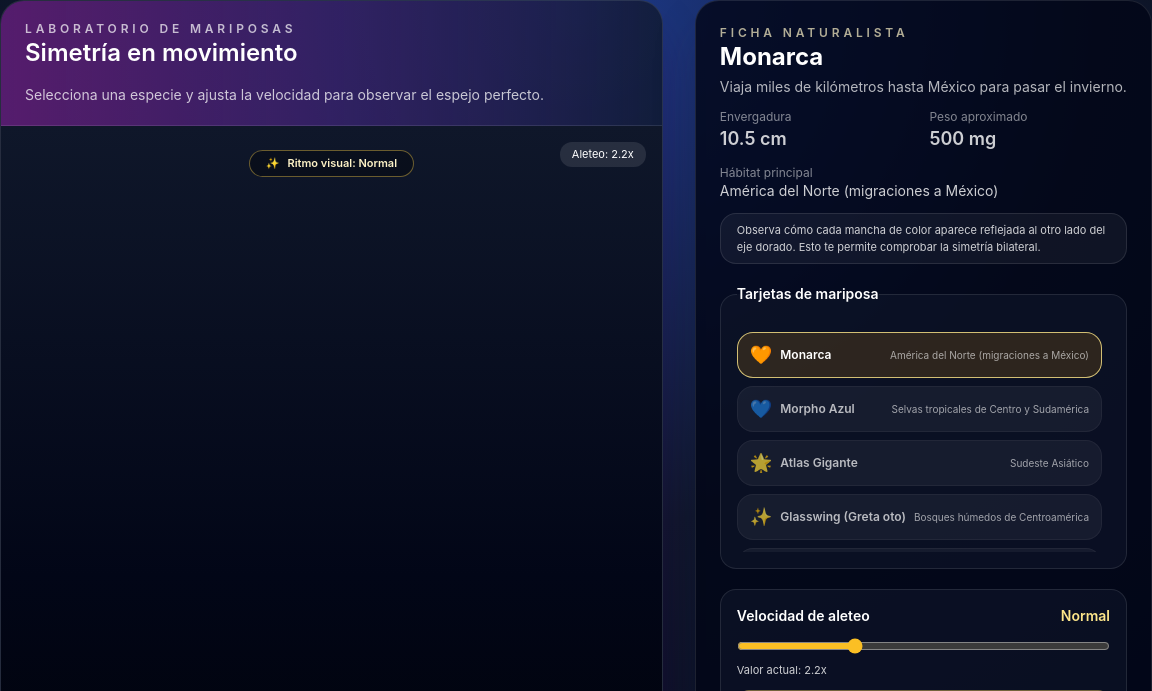
Scenario: ButterfliesPage › permite cambiar la tarjeta activa de mariposa
Click the button "💙 Morpho Azul Selvas tropicales de Centro y Sudamérica": {"x": 919, "y": 409} [737,386,1102,432]
(page scrolled)
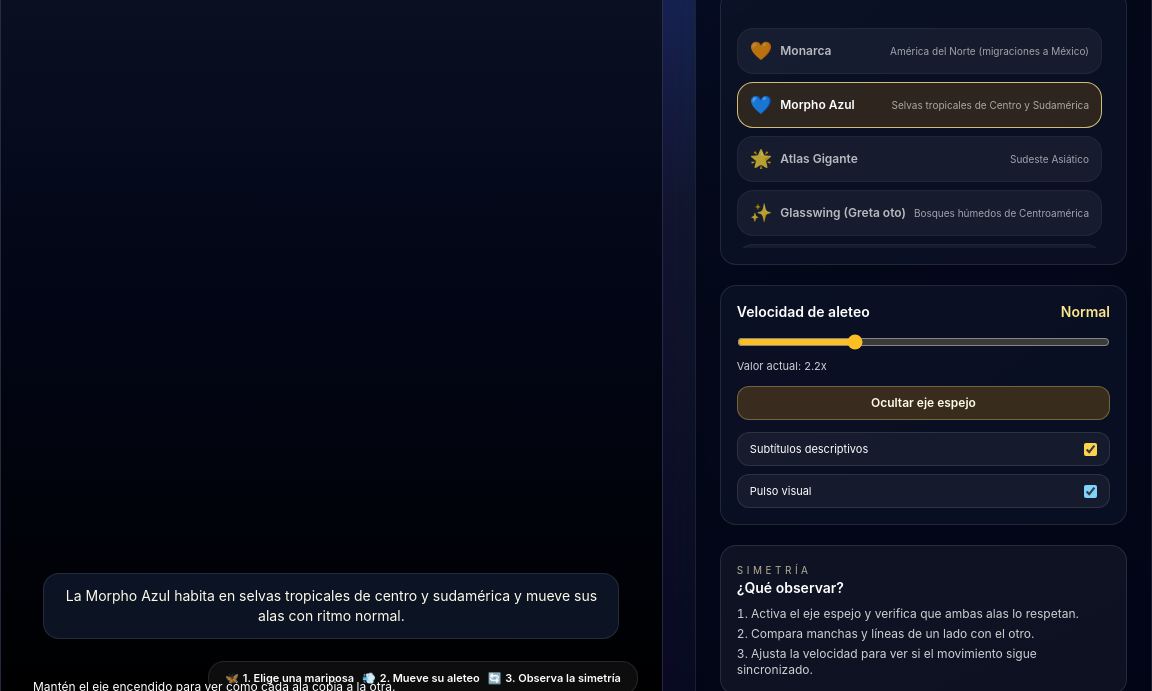
Expected: the text "selvas tropicales de centro y sudamérica" is shown, [66,587,597,624]
